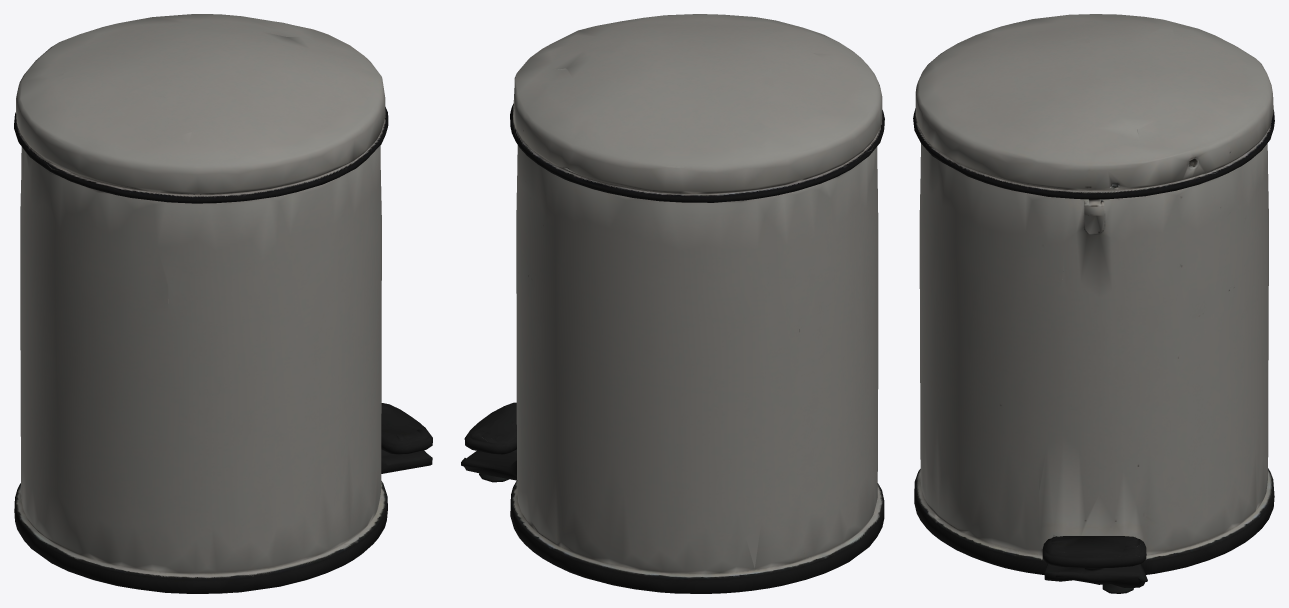
Rendered from trash_bin.glb.
3 views of the same model, side by side, from view 1: azimuth 30°, elevation 25°; view 2: azimuth 150°, elevation 25°; view 3: azimuth 270°, elevation 25° (orthographic). The views are drawn at different scales.
Parts seen in each view (by area): view 1: trash_bin; view 2: trash_bin; view 3: trash_bin.
Boxes of the visible parts, x1,y1,x2,y2 form: trash_bin: [14, 14, 432, 593]; trash_bin: [461, 14, 884, 593]; trash_bin: [913, 14, 1274, 593].
Size of the model in its own units: 0.5717 by 0.6501 by 0.488.
Materials: 1 (1 with a texture image).
